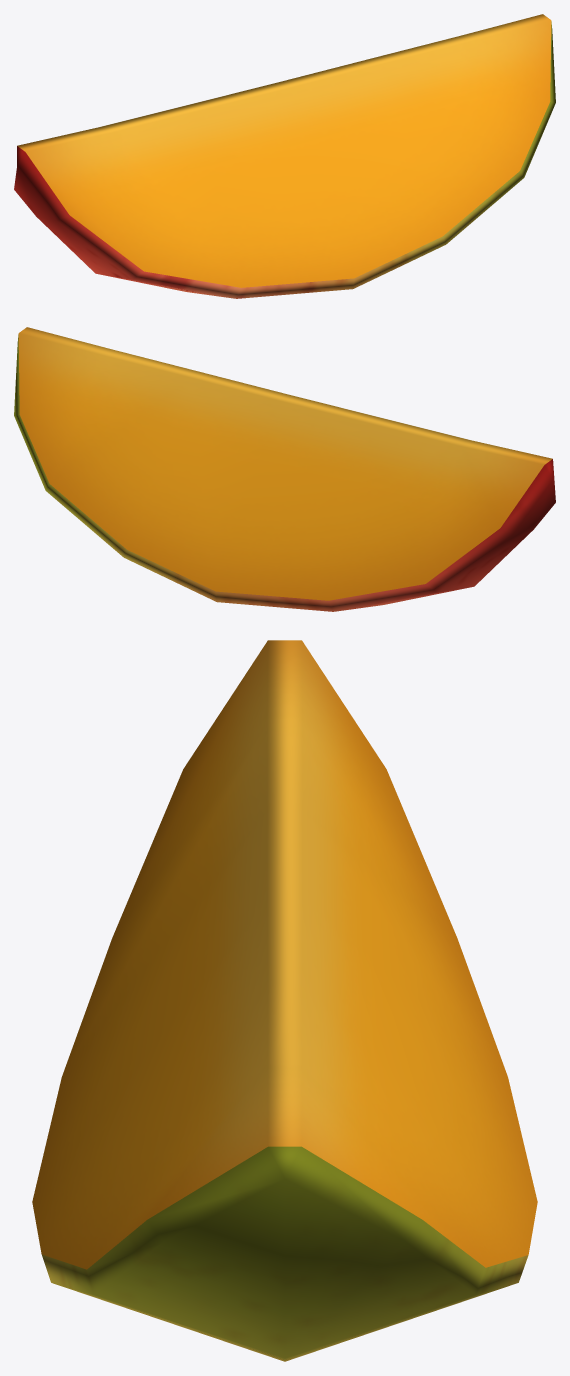
Rendered from Mango_Red_Slice.fbx.
3 views of the same model, one above another, from view 1: azimuth 30°, elevation 25°; view 2: azimuth 150°, elevation 25°; view 3: azimuth 270°, elevation 25° (orthographic). The views are drawn at different scales.
Parts seen in each view (by area): view 1: Mango_Red_Slice; view 2: Mango_Red_Slice; view 3: Mango_Red_Slice.
Boxes of the visible parts, x1,y1,x2,y2 form: Mango_Red_Slice: [14, 14, 555, 298]; Mango_Red_Slice: [14, 327, 555, 611]; Mango_Red_Slice: [32, 640, 537, 1361].
Size of the model in its own units: 42.06 by 15.25 by 17.2.
